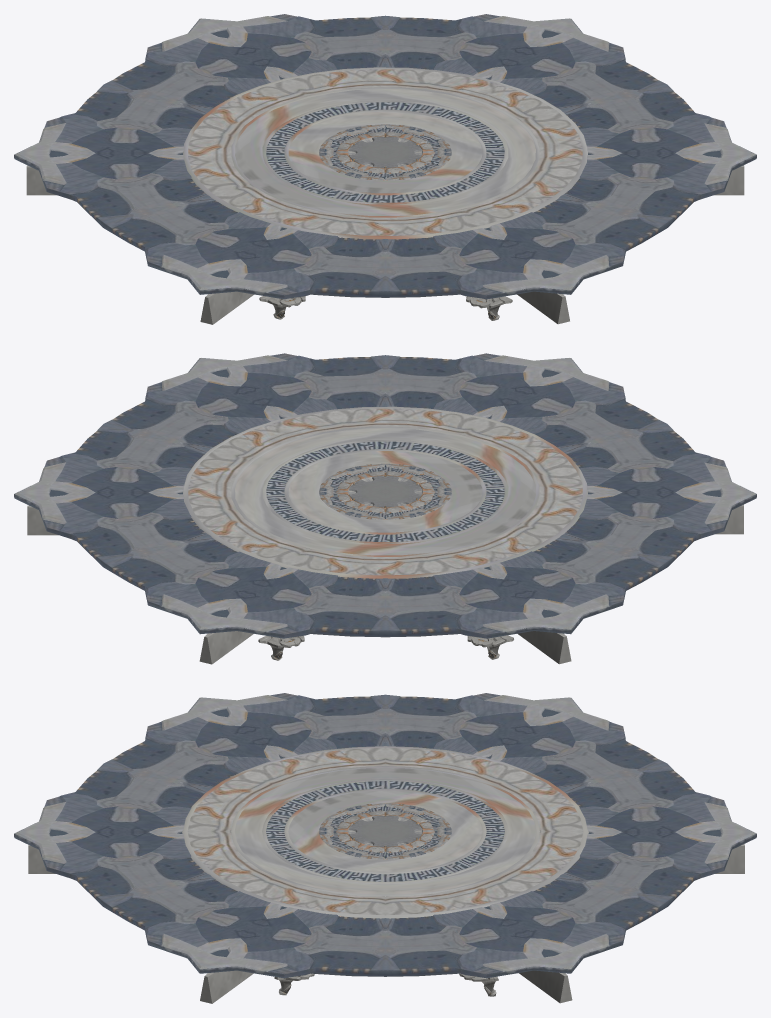
File: arena_lothar.glb
3 renders of one model, top to bottom at view 1: azimuth 30°, elevation 25°; view 2: azimuth 150°, elevation 25°; view 3: azimuth 270°, elevation 25°, orthographic.
Visible parts, largest first — view 1: arena; view 2: arena; view 3: arena.
Boxes of the visible parts, bbox=[...] form: arena: bbox=[14, 14, 756, 324]; arena: bbox=[14, 353, 756, 664]; arena: bbox=[14, 693, 756, 1003].
Size of the model in its own units: 61.1 by 6.92 by 68.21.
Materials: 9 (9 with a texture image).
